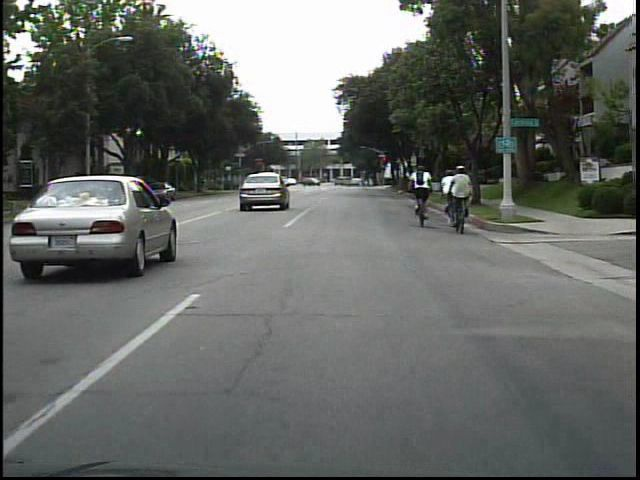person: (450, 161, 477, 234), (407, 161, 436, 228), (439, 166, 460, 227)
